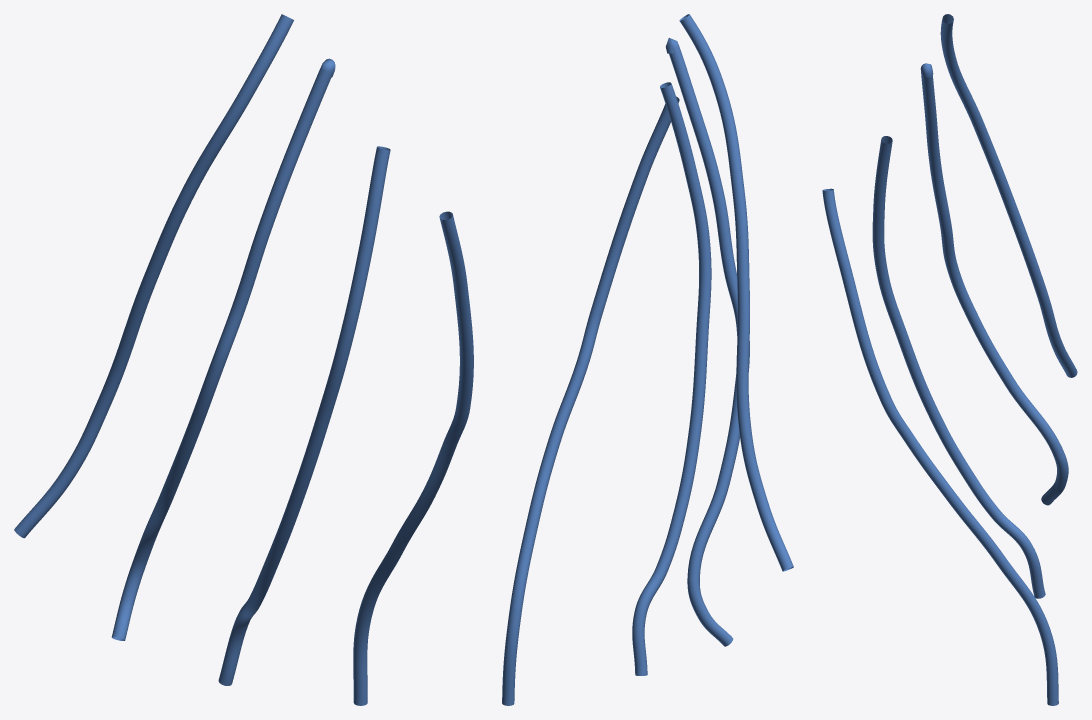
3 renders of one model, left to right at view 1: azimuth 30°, elevation 25°; view 2: azimuth 150°, elevation 25°; view 3: azimuth 270°, elevation 25°, orthographic. The views are drawn at different scales.
Parts seen in each view (by area): view 1: 右侧跖足底静脉; view 2: 右侧跖足底静脉; view 3: 右侧跖足底静脉.
Part boxes in pixels (x1,y1,x2,y2): 右侧跖足底静脉: (14,14,473,705); 右侧跖足底静脉: (502,14,793,705); 右侧跖足底静脉: (822,14,1077,705).
Size of the model in its own units: 0.059 by 0.1243 by 0.0454.
